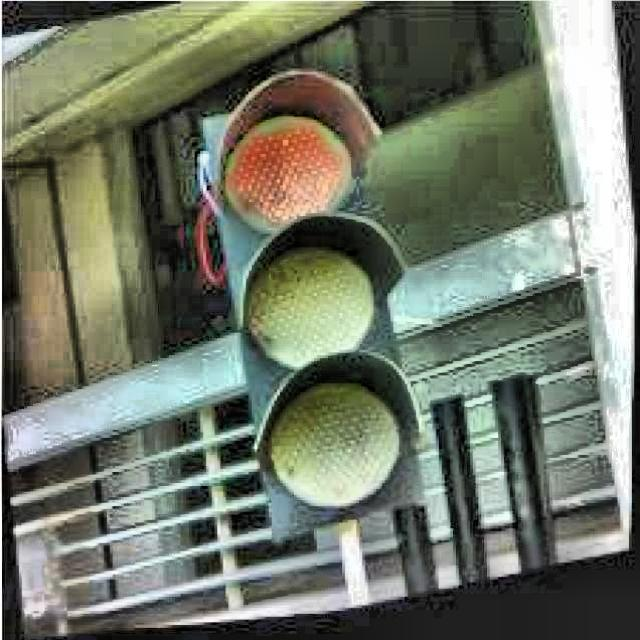red: (222, 66, 436, 515)
